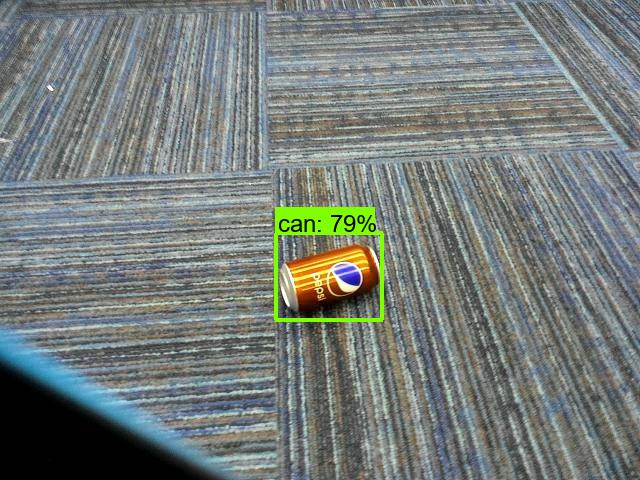can: (275, 241, 388, 317)
